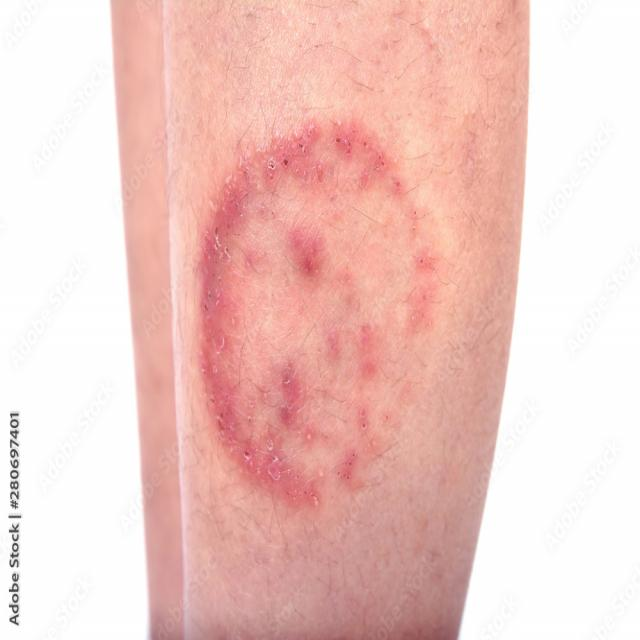tinea: (183, 117, 438, 540)
